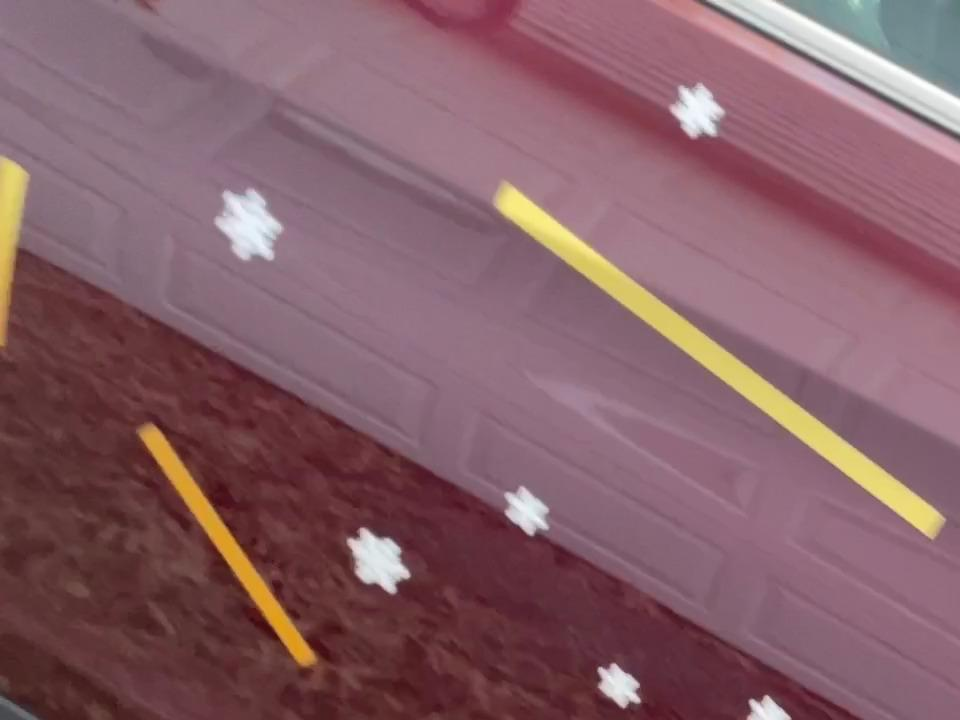dent: (201, 184, 297, 275), (341, 521, 414, 602), (661, 74, 740, 147), (496, 479, 560, 545), (589, 654, 647, 717), (736, 688, 795, 720)
scratch: (486, 176, 960, 548), (126, 411, 322, 678), (888, 713, 960, 720)
